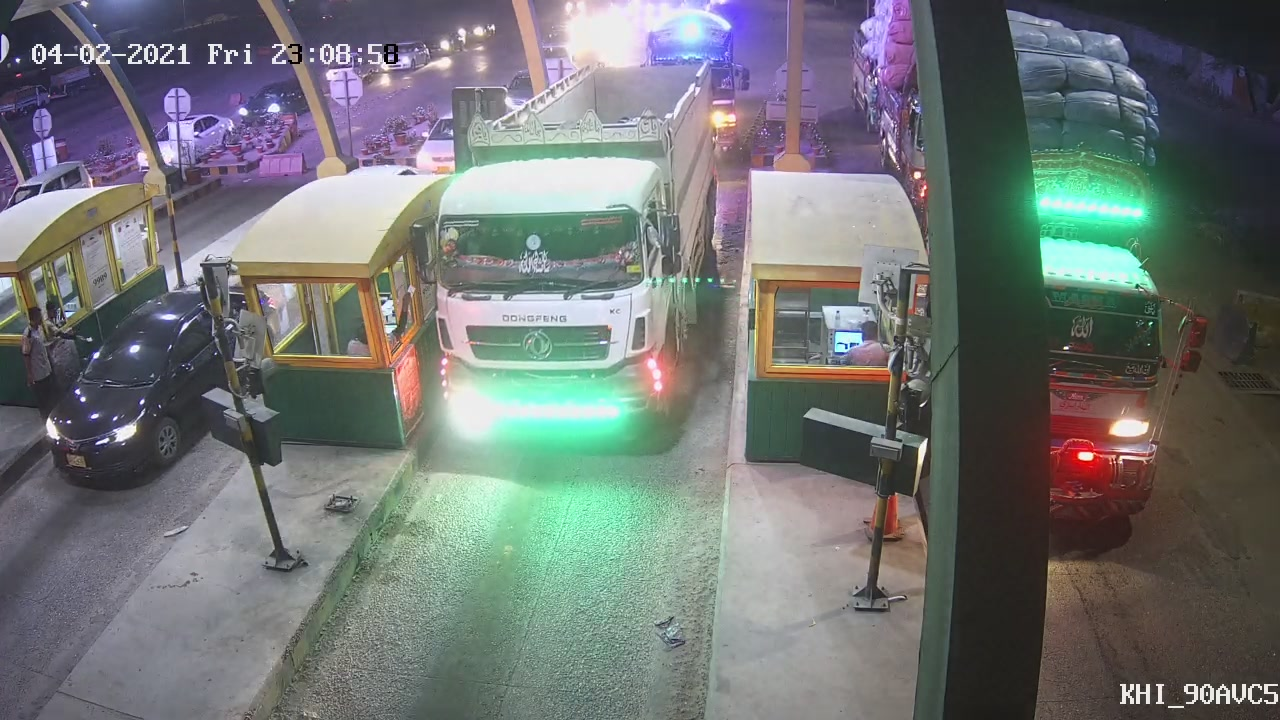F5: (424, 56, 724, 446)
